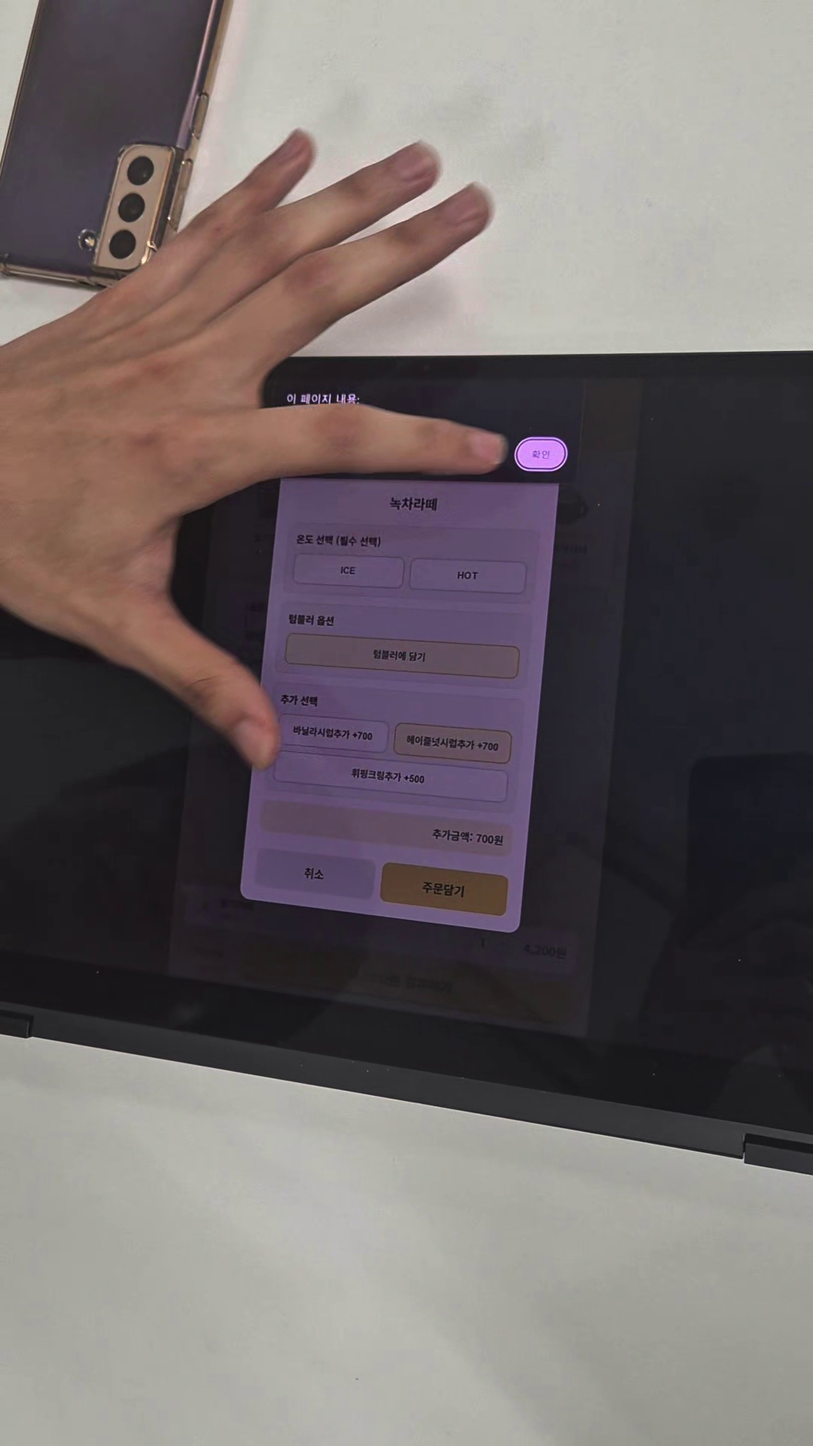action_button: (238, 939, 579, 1024), (379, 862, 509, 917), (255, 849, 375, 899)
menu_name: (387, 495, 440, 515)
option_button: (273, 752, 508, 804), (285, 632, 519, 678), (394, 723, 511, 765), (275, 714, 389, 753), (408, 559, 525, 595), (293, 554, 404, 588)
popup_modal: (240, 465, 559, 933)
